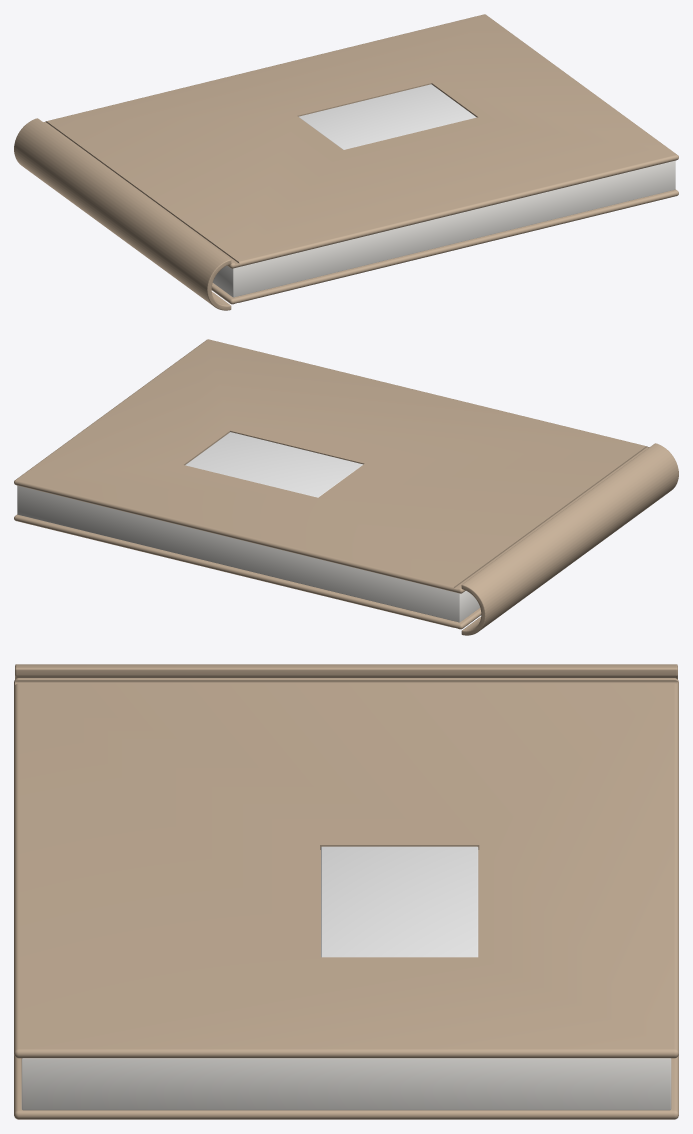
The model's file is photo-small--landscape.glb.
3 views of the same model, one above another, from view 1: azimuth 30°, elevation 25°; view 2: azimuth 150°, elevation 25°; view 3: azimuth 270°, elevation 25° (orthographic). The views are drawn at different scales.
Parts seen in each view (by area): view 1: CoverFront, Pages, Spine, Photo, CoverBack; view 2: CoverFront, Pages, Spine, Photo, CoverBack; view 3: CoverFront, Pages, Photo, Spine, CoverBack.
Part boxes in pixels (box(x1,y1,x2,y2)): CoverFront: box(43, 14, 678, 268); Pages: box(213, 160, 675, 297); Spine: box(14, 118, 231, 310); Photo: box(298, 84, 476, 149); CoverBack: box(211, 189, 678, 304); CoverFront: box(14, 339, 649, 593); Pages: box(17, 485, 479, 622); Spine: box(461, 443, 678, 635); Photo: box(185, 432, 363, 497); CoverBack: box(14, 514, 481, 629); CoverFront: box(14, 678, 678, 1058); Pages: box(21, 1058, 671, 1110); Photo: box(321, 846, 478, 957); Spine: box(15, 664, 677, 679); CoverBack: box(14, 1055, 678, 1119).
Size of the model in its own units: 0.4208 by 0.043 by 0.3.
